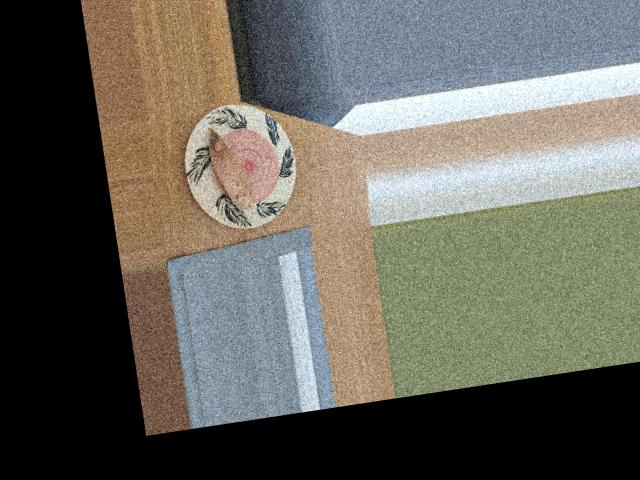sweet_potato: (200, 130, 259, 212)
